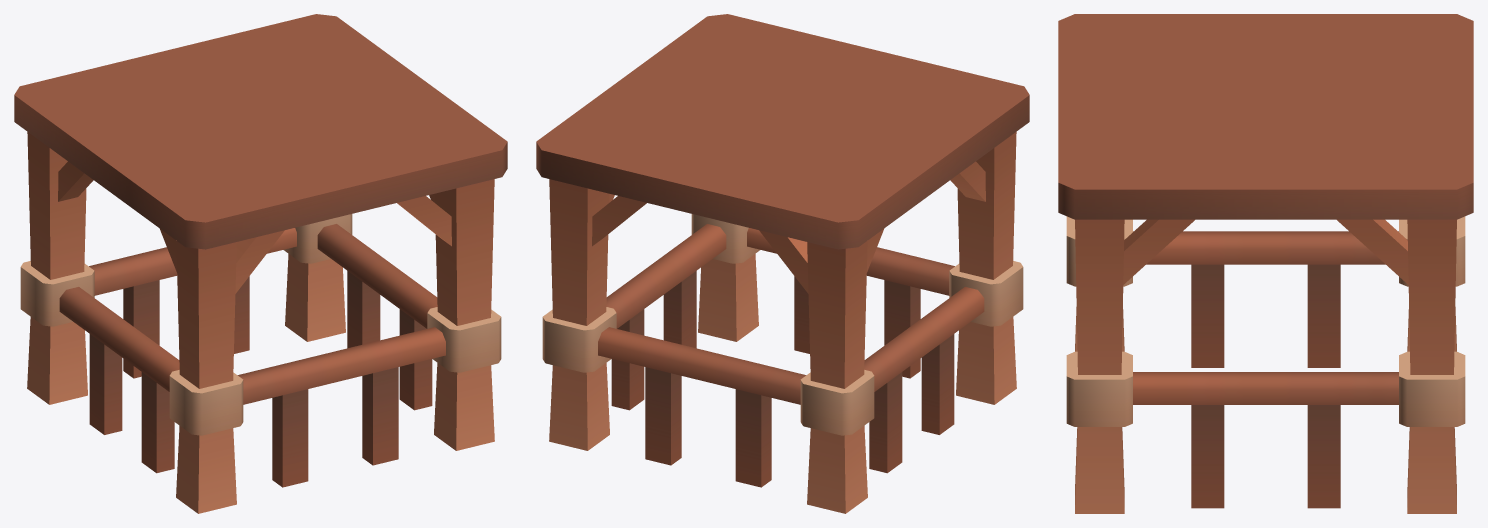
File: structure-fence-sides.glb
3 views of the same model, side by side, from view 1: azimuth 30°, elevation 25°; view 2: azimuth 150°, elevation 25°; view 3: azimuth 270°, elevation 25° (orthographic). The views are drawn at different scales.
Visible parts, largest first — view 1: structure-fence-sides, Group; view 2: structure-fence-sides, Group; view 3: structure-fence-sides.
Boxes of the visible parts, <box> form: structure-fence-sides: <box>14,14,507,513</box>; Group: <box>89,228,445,487</box>; structure-fence-sides: <box>536,14,1029,513</box>; Group: <box>598,228,954,487</box>; structure-fence-sides: <box>1058,14,1473,513</box>.
Bounding box in the file's own units: 2.5 × 2.2 × 2.5.
1 material, 1 textured.
